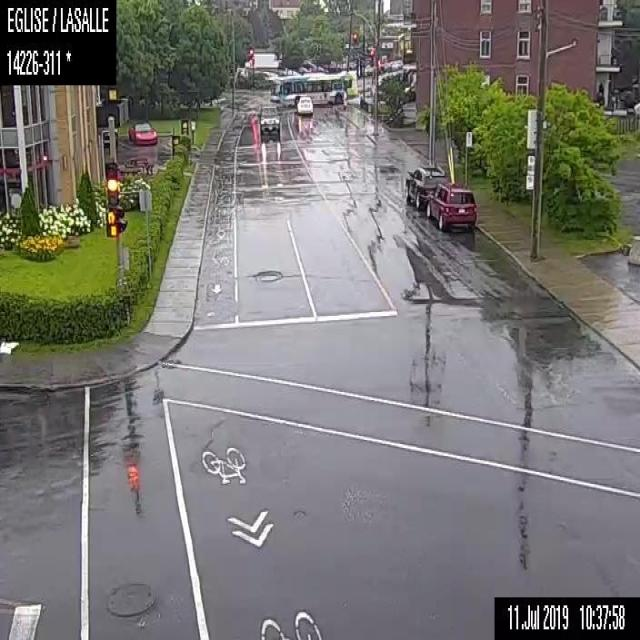bus: (270, 71, 360, 106)
vehicle: (425, 180, 478, 228), (403, 163, 446, 209), (258, 103, 281, 138), (128, 120, 156, 145), (294, 95, 313, 116)
